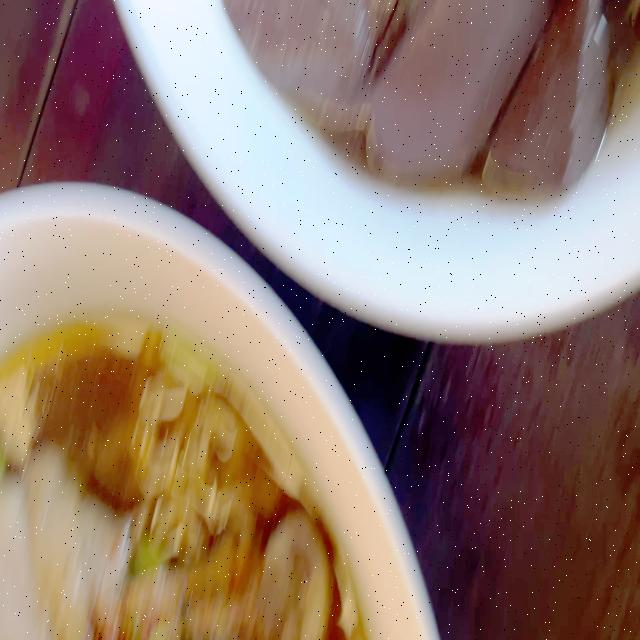boiled_chicken_blood_jelly: (219, 0, 611, 197)
chicken_drumstick: (0, 466, 351, 640)
noodle: (0, 285, 382, 639), (225, 0, 640, 210)
